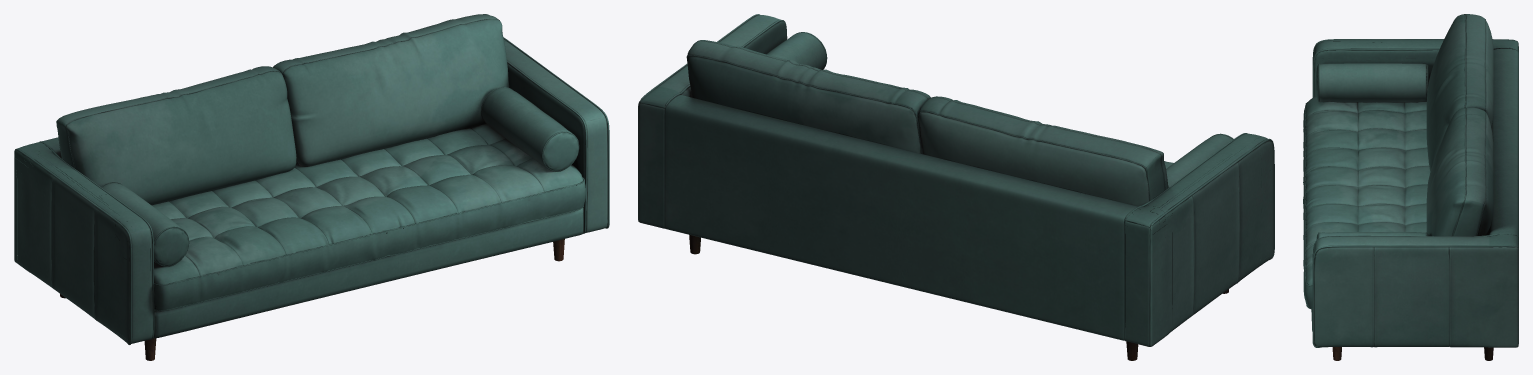
File: sofa-4-draco.glb
3 renders of one model, left to right at view 1: azimuth 30°, elevation 25°; view 2: azimuth 150°, elevation 25°; view 3: azimuth 270°, elevation 25°, orthographic. The views are drawn at different scales.
Visible parts, largest first — view 1: FABRIC.001, FABRIC, WOOD; view 2: FABRIC, FABRIC.001; view 3: FABRIC, FABRIC.001, WOOD.
Part boxes in pixels (left/top/right/bottom): FABRIC.001: left=14, top=14, right=583, bottom=340; FABRIC: left=14, top=37, right=609, bottom=344; WOOD: left=60, top=239, right=564, bottom=360; FABRIC: left=638, top=14, right=1274, bottom=346; FABRIC.001: left=686, top=32, right=1273, bottom=345; FABRIC: left=1303, top=39, right=1518, bottom=347; FABRIC.001: left=1311, top=14, right=1517, bottom=331; WOOD: left=1332, top=347, right=1493, bottom=360.
Size of the model in its own units: 229 by 85.81 by 99.98.
Materials: 2 (2 with a texture image).
